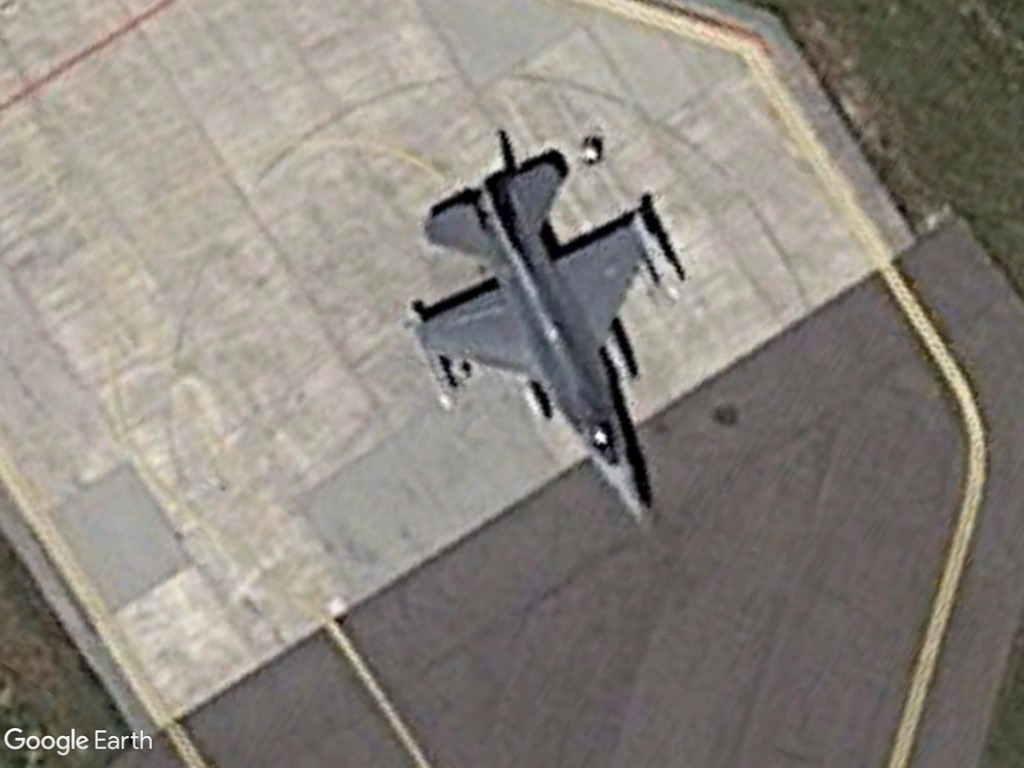fighter: (403, 149, 694, 550)
